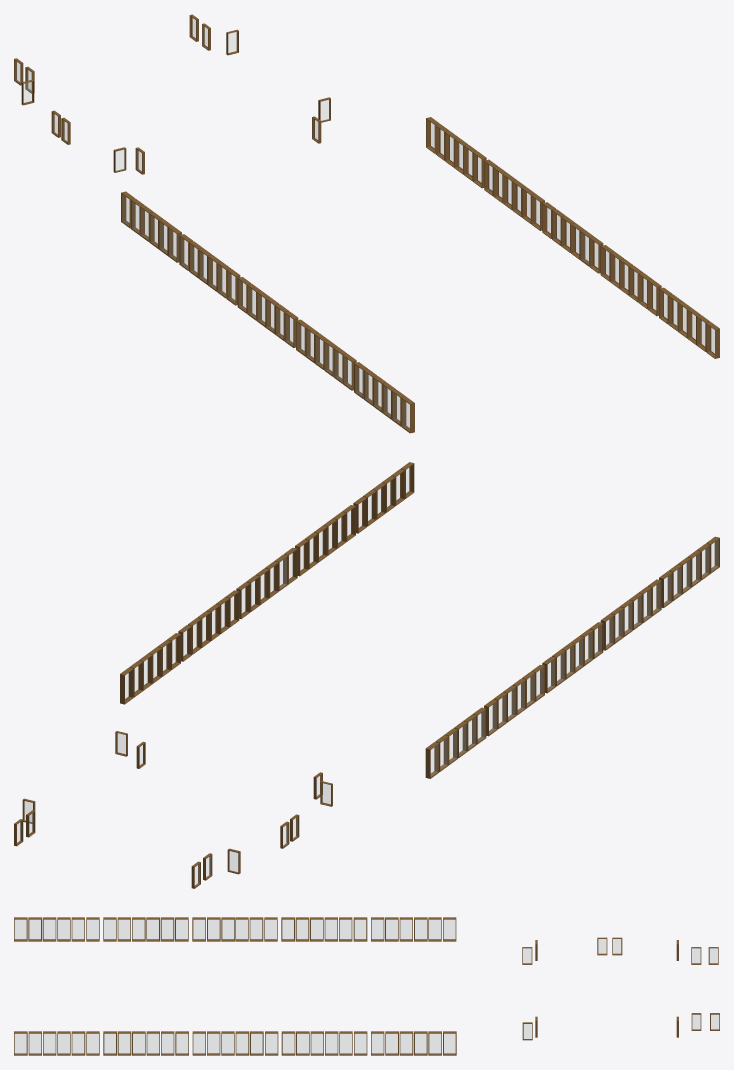
The model's file is insaat_revit.ifc.ifc.ifc_92.0 BLG Lab_IfcWindow.dae.
The picture shows the model from 3 angles, top to bottom: view 1: azimuth 30°, elevation 25°; view 2: azimuth 150°, elevation 25°; view 3: azimuth 270°, elevation 25°; orthographic projection. The views are drawn at different scales.
Parts seen in each view (by area): view 1: no part large enough to name; view 2: no part large enough to name; view 3: 0HUM3_Bvf6w9E2bbMrr1j4, 0HUM3_Bvf6w9E2bbMrr1j1, 0HUM3_Bvf6w9E2bbMrr1j9, 0HUM3_Bvf6w9E2bbMrr1jM, 0HUM3_Bvf6w9E2bbMrr1jU, 0HUM3_Bvf6w9E2bbMrr1ZF, 0HUM3_Bvf6w9E2bbMrr1ZN, 0HUM3_Bvf6w9E2bbMrr1ZH, 0HUM3_Bvf6w9E2bbMrr1ZQ, 0HUM3_Bvf6w9E2bbMrr1Zc, 0HUM3_Bvf6w9E2bbMrr1iu, 0HUM3_Bvf6w9E2bbMrr1j7 (+48 smaller).
Boxes of the visible parts, x1=… form: 0HUM3_Bvf6w9E2bbMrr1j4: x1=71, y1=1031, x2=85, y2=1055; 0HUM3_Bvf6w9E2bbMrr1j1: x1=117, y1=1031, x2=131, y2=1055; 0HUM3_Bvf6w9E2bbMrr1j9: x1=235, y1=1031, x2=249, y2=1055; 0HUM3_Bvf6w9E2bbMrr1jM: x1=281, y1=1031, x2=295, y2=1055; 0HUM3_Bvf6w9E2bbMrr1jU: x1=399, y1=1031, x2=413, y2=1055; 0HUM3_Bvf6w9E2bbMrr1ZF: x1=42, y1=917, x2=56, y2=941; 0HUM3_Bvf6w9E2bbMrr1ZN: x1=160, y1=917, x2=174, y2=941; 0HUM3_Bvf6w9E2bbMrr1ZH: x1=249, y1=917, x2=263, y2=941; 0HUM3_Bvf6w9E2bbMrr1ZQ: x1=295, y1=917, x2=309, y2=941; 0HUM3_Bvf6w9E2bbMrr1Zc: x1=353, y1=917, x2=367, y2=941; 0HUM3_Bvf6w9E2bbMrr1iu: x1=14, y1=1031, x2=27, y2=1055; 0HUM3_Bvf6w9E2bbMrr1j7: x1=28, y1=1031, x2=41, y2=1055.
Bounding box in the file's own units: 22.11 × 56.99 × 2.84.
